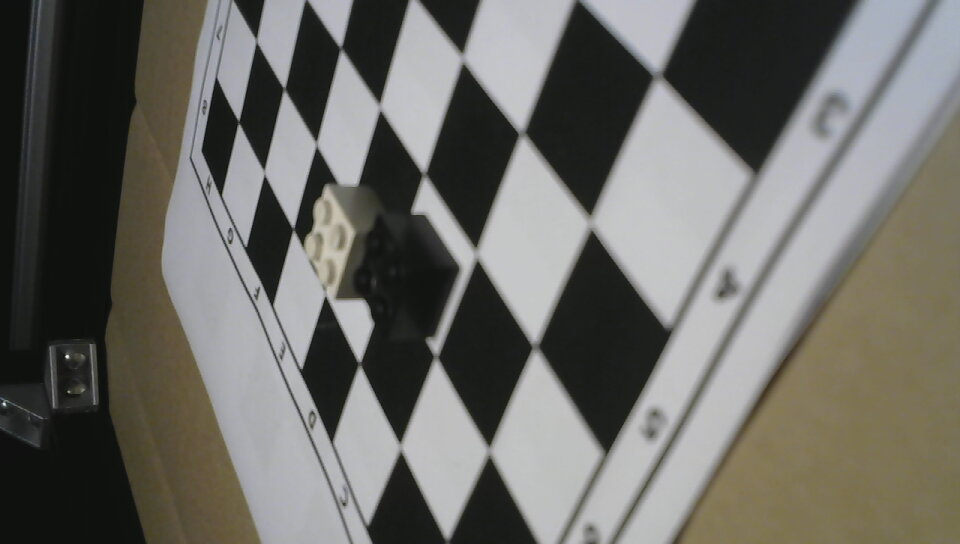bp: (351, 205, 463, 345)
